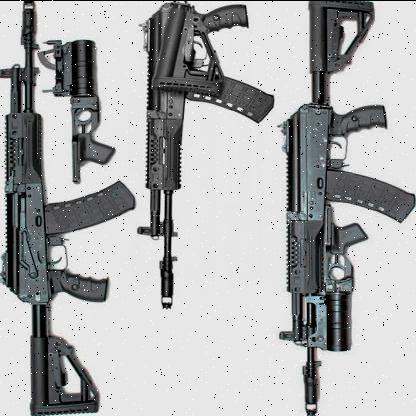rifle: (1, 10, 141, 414), (283, 0, 411, 412), (142, 3, 288, 315)
